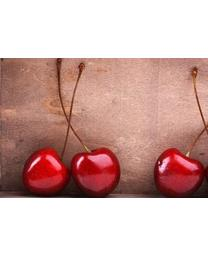cherry: (69, 147, 121, 196), (154, 148, 204, 197), (23, 146, 69, 196)
